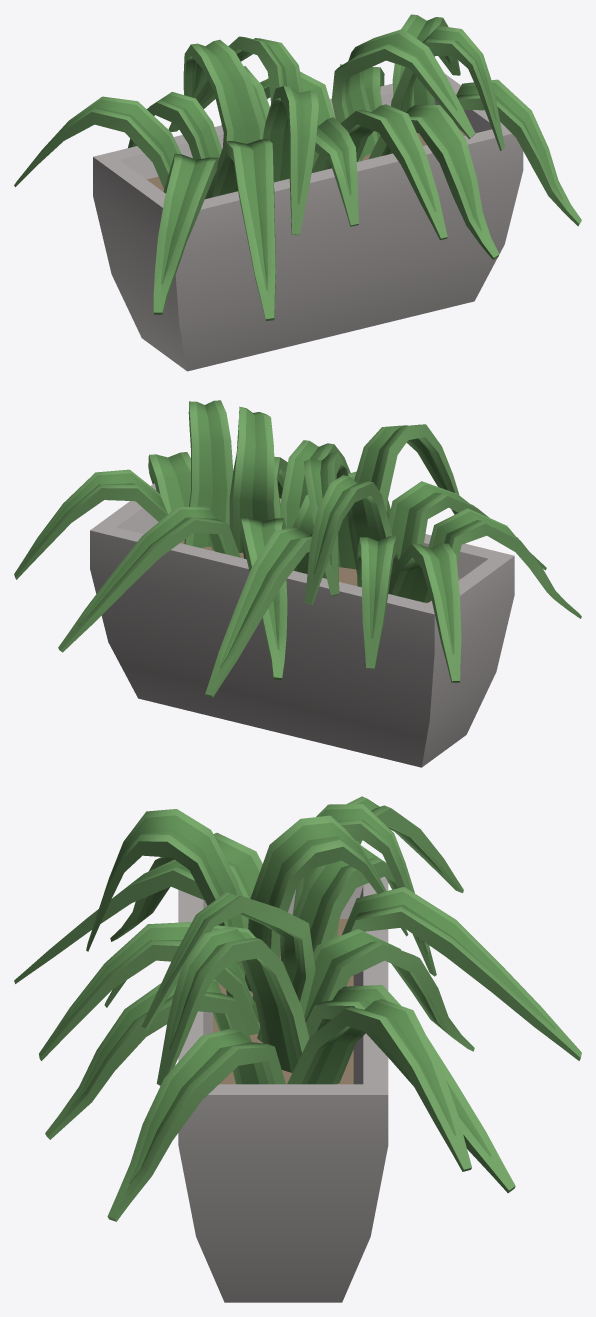
Rendered from SM_Prop_Plant_03.obj.
The picture shows the model from 3 angles, top to bottom: view 1: azimuth 30°, elevation 25°; view 2: azimuth 150°, elevation 25°; view 3: azimuth 270°, elevation 25°; orthographic projection. The views are drawn at different scales.
Visible parts, largest first — view 1: SM_Prop_Plant_03_Mat_SwatchOverlay_PolygonOffice_01_Inst; view 2: SM_Prop_Plant_03_Mat_SwatchOverlay_PolygonOffice_01_Inst; view 3: SM_Prop_Plant_03_Mat_SwatchOverlay_PolygonOffice_01_Inst.
Part boxes in pixels (box(x1,y1,x2,y2)): SM_Prop_Plant_03_Mat_SwatchOverlay_PolygonOffice_01_Inst: box(14, 14, 581, 371); SM_Prop_Plant_03_Mat_SwatchOverlay_PolygonOffice_01_Inst: box(14, 400, 581, 767); SM_Prop_Plant_03_Mat_SwatchOverlay_PolygonOffice_01_Inst: box(14, 796, 581, 1302).
Bounding box in the file's own units: 0.5648 × 0.341 × 0.4788.
1 material, 1 textured.
